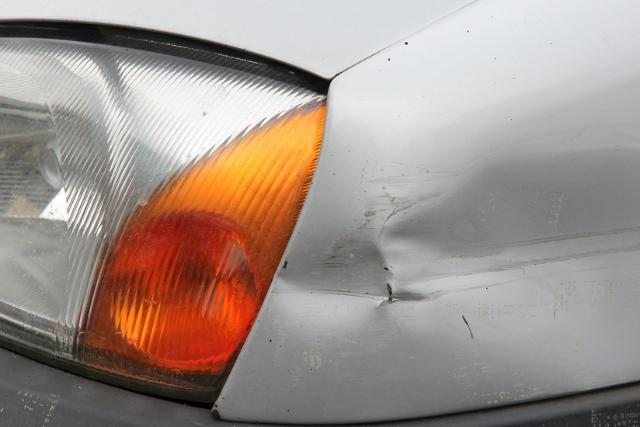Fender: (295, 160, 622, 345)
